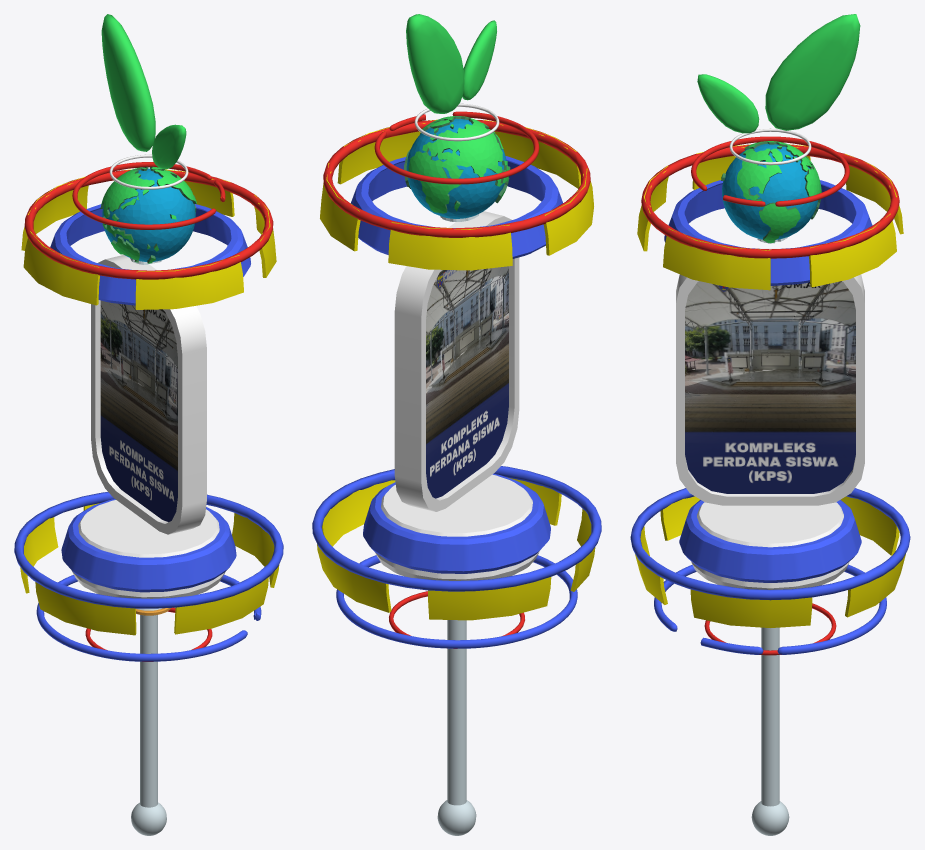
Rendered from kps.glb.
The picture shows the model from 3 angles, left to right: view 1: azimuth 30°, elevation 25°; view 2: azimuth 150°, elevation 25°; view 3: azimuth 270°, elevation 25°; orthographic projection. The views are drawn at different scales.
Parts seen in each view (by area): view 1: pCube3, polySurface2, pasted__pSphere8, pasted__pSphere6, pasted__pCylinder9, Sphere, pasted__pCylinder10, pCube5, pasted__polySurface27, pasted__polySurface28, pasted__pCone1, pasted__polySurface30 (+3 smaller); view 2: pCube3, polySurface2, pasted__pSphere8, pasted__pSphere6, pasted__pCylinder9, Sphere, pasted__pCylinder10, pasted__polySurface27, pCube5, pasted__polySurface28, pasted__polySurface30, pasted__pCone1 (+4 smaller); view 3: pCube3, pasted__pSphere8, pCube5, pasted__pSphere6, Sphere, pasted__pCylinder9, pasted__pCylinder10, polySurface2, pasted__polySurface27, pasted__polySurface28, pasted__polySurface30, pasted__pCone1 (+4 smaller).
Boxes of the visible parts, x1,y1,x2,y2 form: pCube3: (100, 300, 177, 522); polySurface2: (91, 255, 206, 534); pasted__pSphere8: (21, 169, 276, 309); pasted__pSphere6: (20, 503, 279, 635); pasted__pCylinder9: (61, 499, 236, 592); Sphere: (100, 166, 196, 264); pasted__pCylinder10: (71, 500, 225, 598); pCube5: (101, 14, 186, 169); pasted__polySurface27: (14, 492, 283, 608); pasted__polySurface28: (24, 170, 273, 279); pasted__pCone1: (131, 608, 166, 835); pasted__polySurface30: (50, 204, 250, 305); pCube3: (426, 266, 508, 498); polySurface2: (394, 211, 519, 511); pasted__pSphere8: (320, 119, 593, 270); pasted__pSphere6: (317, 477, 595, 620); pasted__pCylinder9: (363, 473, 550, 573); Sphere: (404, 116, 510, 221); pasted__pCylinder10: (375, 474, 539, 580); pasted__polySurface27: (312, 466, 601, 591); pCube5: (406, 14, 496, 113); pasted__polySurface28: (323, 120, 590, 237); pasted__polySurface30: (350, 156, 562, 258); pasted__pCone1: (437, 620, 476, 835); pCube3: (685, 281, 855, 493); pasted__pSphere8: (637, 144, 903, 290); pCube5: (697, 14, 860, 133); pasted__pSphere6: (635, 496, 905, 627); Sphere: (721, 141, 821, 243); pasted__pCylinder9: (679, 500, 861, 582); pasted__pCylinder10: (691, 502, 849, 589); polySurface2: (676, 248, 864, 505); pasted__polySurface27: (630, 488, 910, 600); pasted__polySurface28: (641, 144, 899, 258); pasted__polySurface30: (664, 180, 872, 285); pasted__pCone1: (751, 627, 789, 835).
Bounding box in the file's own units: 0.0149 × 0.0481 × 0.0149.
10 materials, 1 textured.
